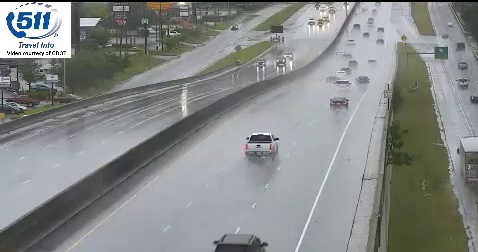car: (244, 133, 279, 158), (329, 95, 347, 110)
